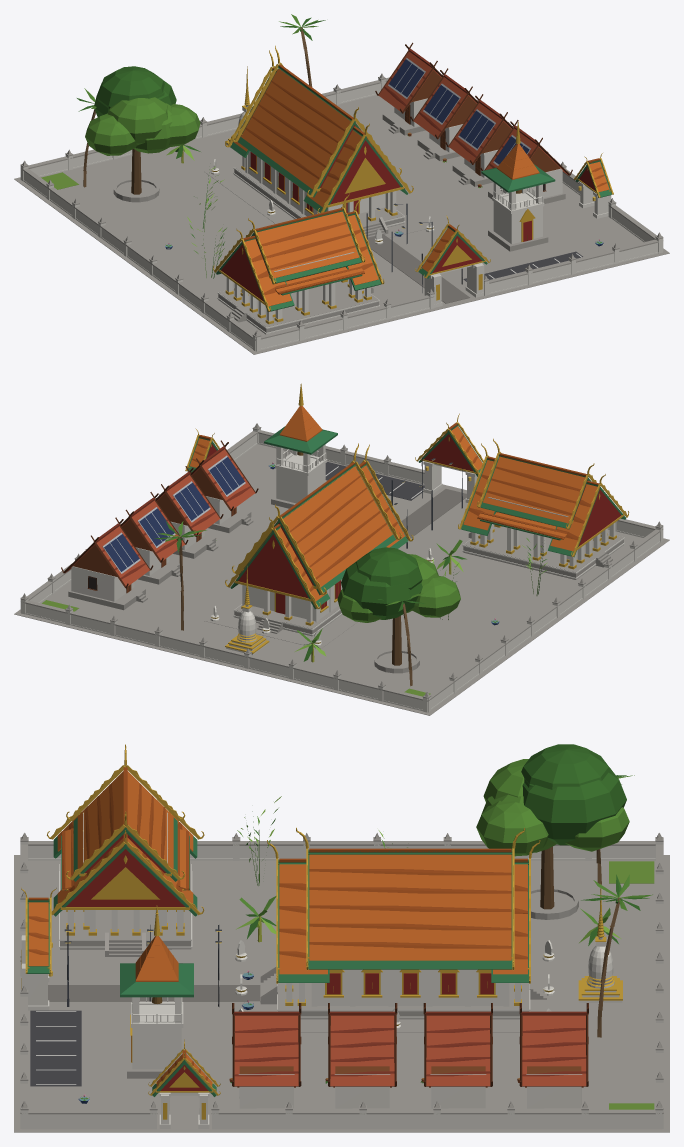
File: temple_2.glb
The picture shows the model from 3 angles, top to bottom: view 1: azimuth 30°, elevation 25°; view 2: azimuth 150°, elevation 25°; view 3: azimuth 270°, elevation 25°; orthographic projection. The views are drawn at different scales.
Visible parts, largest first — view 1: body; view 2: body; view 3: body.
Boxes of the visible parts, x1,y1,x2,y2 form: body: (14, 14, 669, 354); body: (14, 383, 669, 715); body: (14, 744, 669, 1132).
Bounding box in the file's own units: 47.9 × 13.72 × 47.9.
